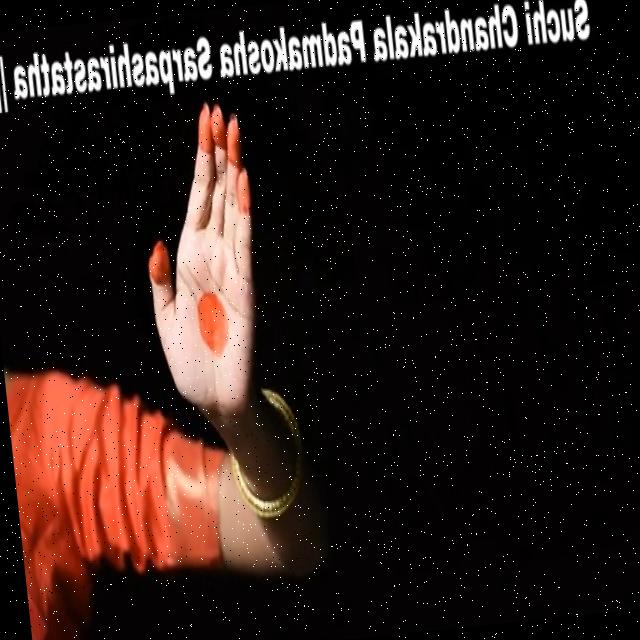Sarpashirsha: (111, 92, 289, 433)
bangle: (215, 436, 324, 528)
text: (0, 0, 607, 127)
